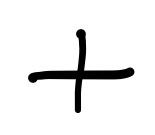plus: (30, 29, 134, 111)
